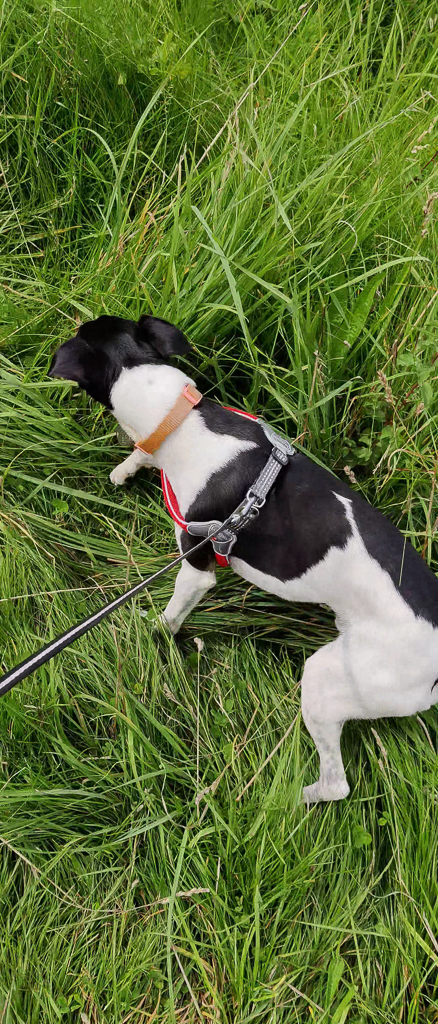Dog: (14, 281, 438, 831)
